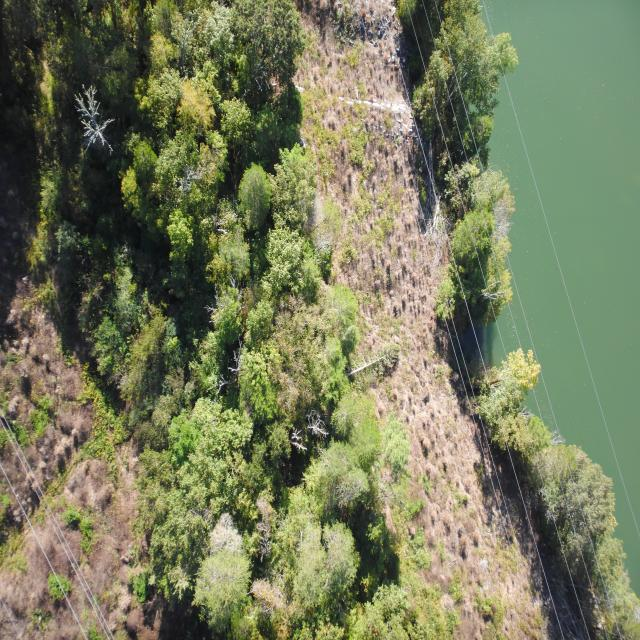Area of Interest: (10, 15, 432, 636), (490, 370, 634, 632), (429, 10, 497, 299)
